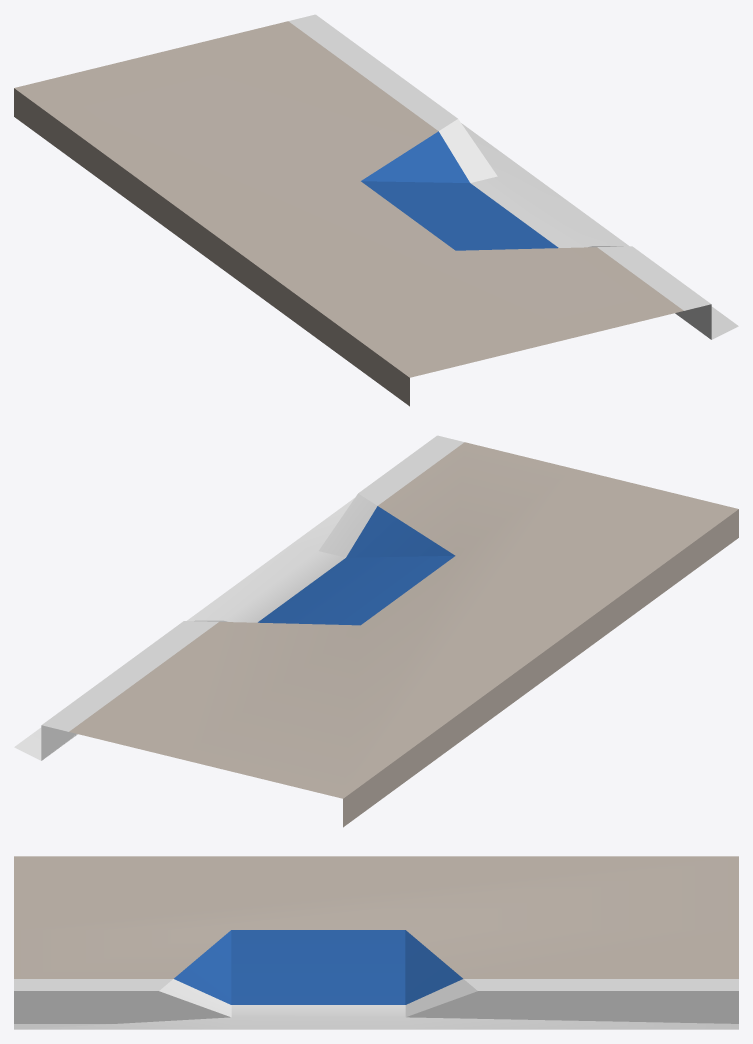
File: Calçada_Acesso_Cadeirantes.fbx
3 views of the same model, one above another, from view 1: azimuth 30°, elevation 25°; view 2: azimuth 150°, elevation 25°; view 3: azimuth 270°, elevation 25° (orthographic). The views are drawn at different scales.
Parts seen in each view (by area): view 1: Calçada_Acesso_Cadeirantes; view 2: Calçada_Acesso_Cadeirantes; view 3: Calçada_Acesso_Cadeirantes.
Boxes of the visible parts, bbox=[...] form: Calçada_Acesso_Cadeirantes: bbox=[14, 14, 738, 406]; Calçada_Acesso_Cadeirantes: bbox=[14, 435, 738, 827]; Calçada_Acesso_Cadeirantes: bbox=[14, 856, 738, 1029].
Size of the model in its own units: 240 by 25 by 500.
